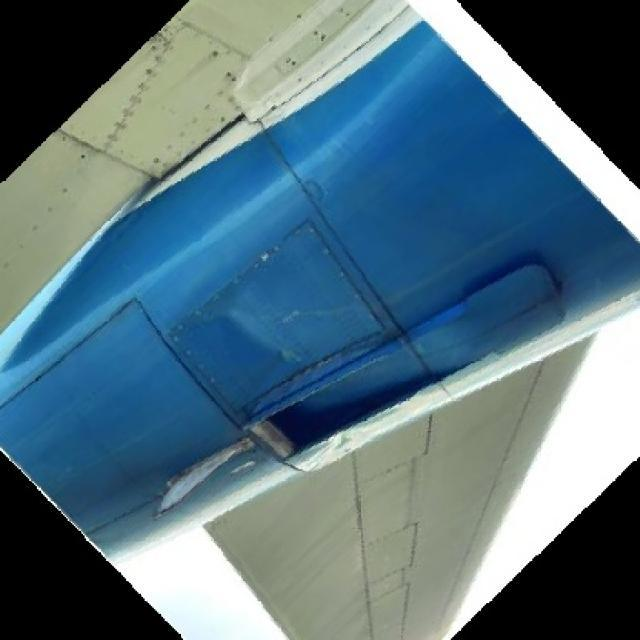dent: (203, 290, 329, 389)
